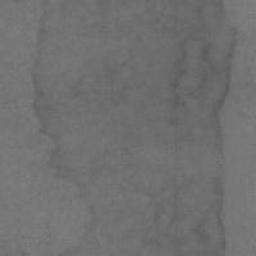Water spot: (28, 0, 239, 256)
